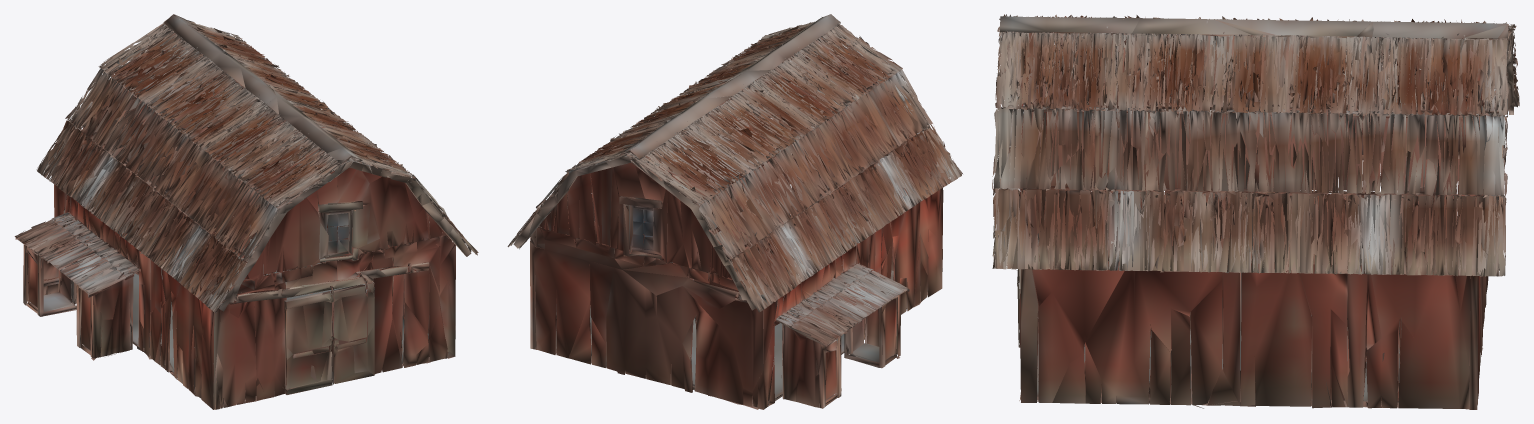
The model's file is barn.glb.
3 renders of one model, left to right at view 1: azimuth 30°, elevation 25°; view 2: azimuth 150°, elevation 25°; view 3: azimuth 270°, elevation 25°, orthographic. The views are drawn at different scales.
Parts seen in each view (by area): view 1: LO.001; view 2: LO.001; view 3: LO.001.
Boxes of the visible parts, x1=… form: LO.001: x1=14, y1=14, x2=478, y2=409; LO.001: x1=507, y1=14, x2=962, y2=409; LO.001: x1=992, y1=14, x2=1519, y2=409.
Size of the model in its own units: 1.76 by 1.3 by 1.95.
Materials: 1 (1 with a texture image).
